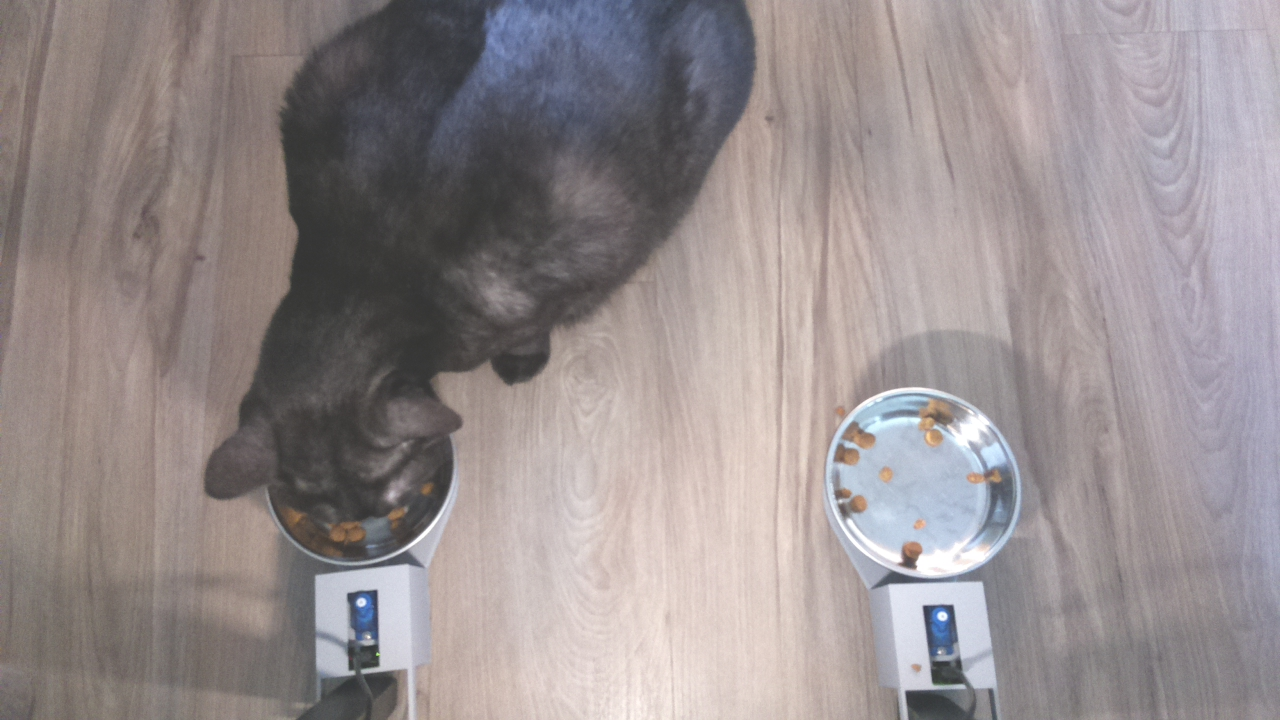open_bowl: (814, 380, 1026, 584)
saki_eating: (202, 280, 476, 578)
